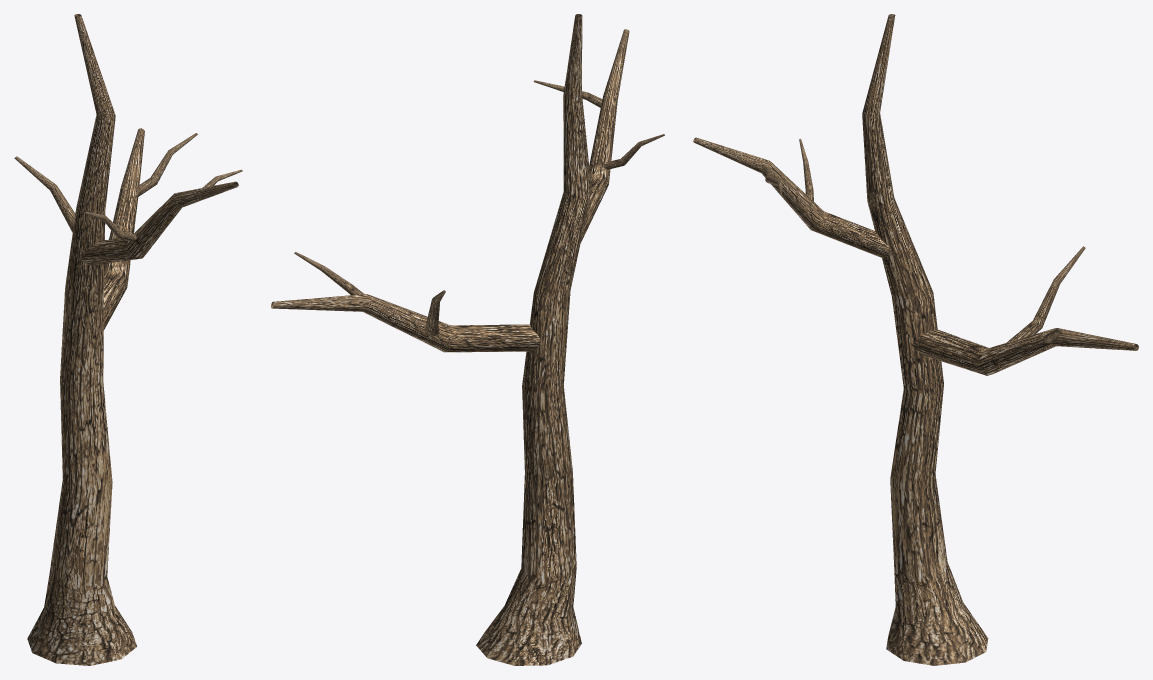
Rendered from Árvore 2 seca.fbx.
The picture shows the model from 3 angles, left to right: view 1: azimuth 30°, elevation 25°; view 2: azimuth 150°, elevation 25°; view 3: azimuth 270°, elevation 25°; orthographic projection. The views are drawn at different scales.
Parts seen in each view (by area): view 1: Árvore 2 seca; view 2: Árvore 2 seca; view 3: Árvore 2 seca.
Part boxes in pixels (x1,y1,x2,y2): Árvore 2 seca: (14,14,242,665); Árvore 2 seca: (271,14,664,665); Árvore 2 seca: (693,14,1138,665).
Size of the model in its own units: 3.78 by 9.36 by 6.14.
